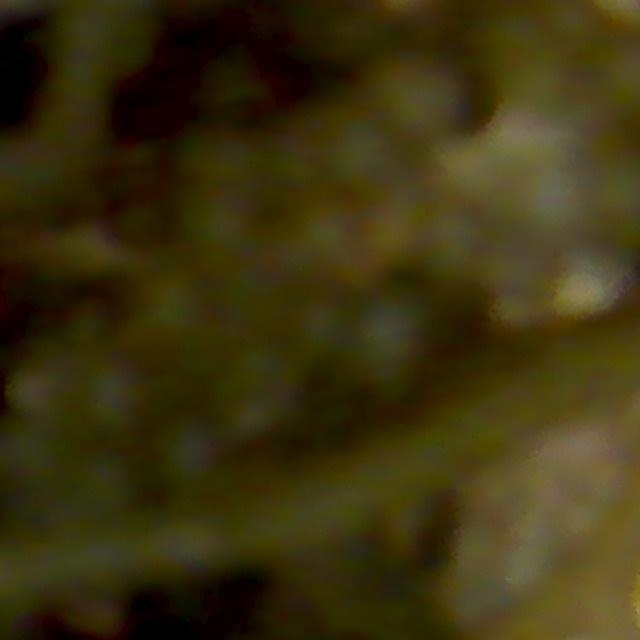SeaGrape: (371, 53, 473, 146), (349, 288, 442, 388), (323, 114, 403, 197), (75, 355, 152, 438), (288, 200, 362, 285), (135, 269, 211, 350), (151, 415, 225, 495), (5, 357, 81, 429), (287, 295, 353, 362), (541, 0, 602, 53)
